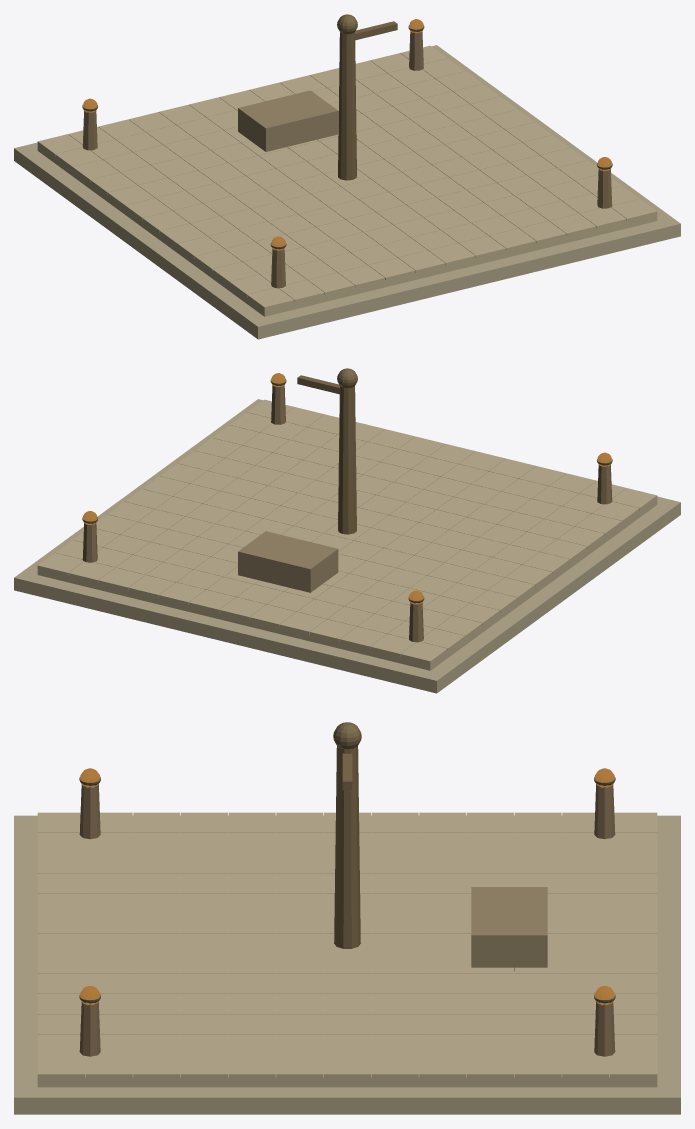
The model's file is plaza.glb.
3 views of the same model, one above another, from view 1: azimuth 30°, elevation 25°; view 2: azimuth 150°, elevation 25°; view 3: azimuth 270°, elevation 25° (orthographic). The views are drawn at different scales.
Parts seen in each view (by area): view 1: plaza; view 2: plaza; view 3: plaza.
Boxes of the visible parts, <box> form: plaza: <box>14,14,680,339</box>; plaza: <box>14,368,680,693</box>; plaza: <box>14,722,680,1114</box>.
Size of the model in its own units: 15 by 6.21 by 15.
